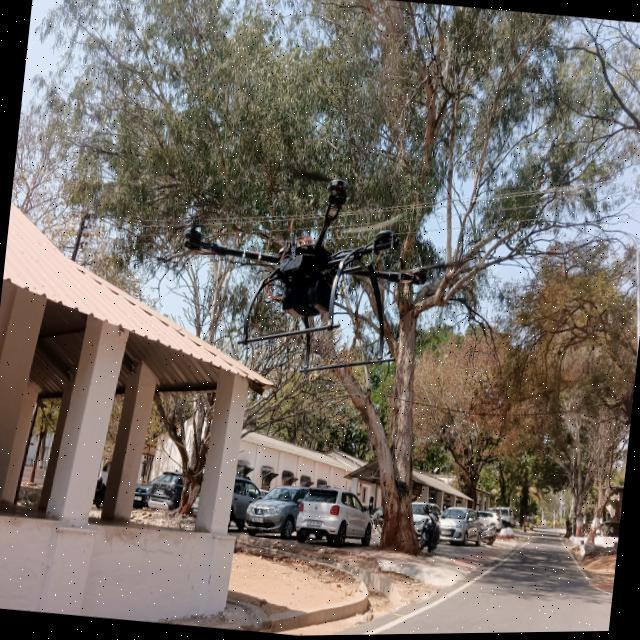drone: (154, 145, 476, 383)
